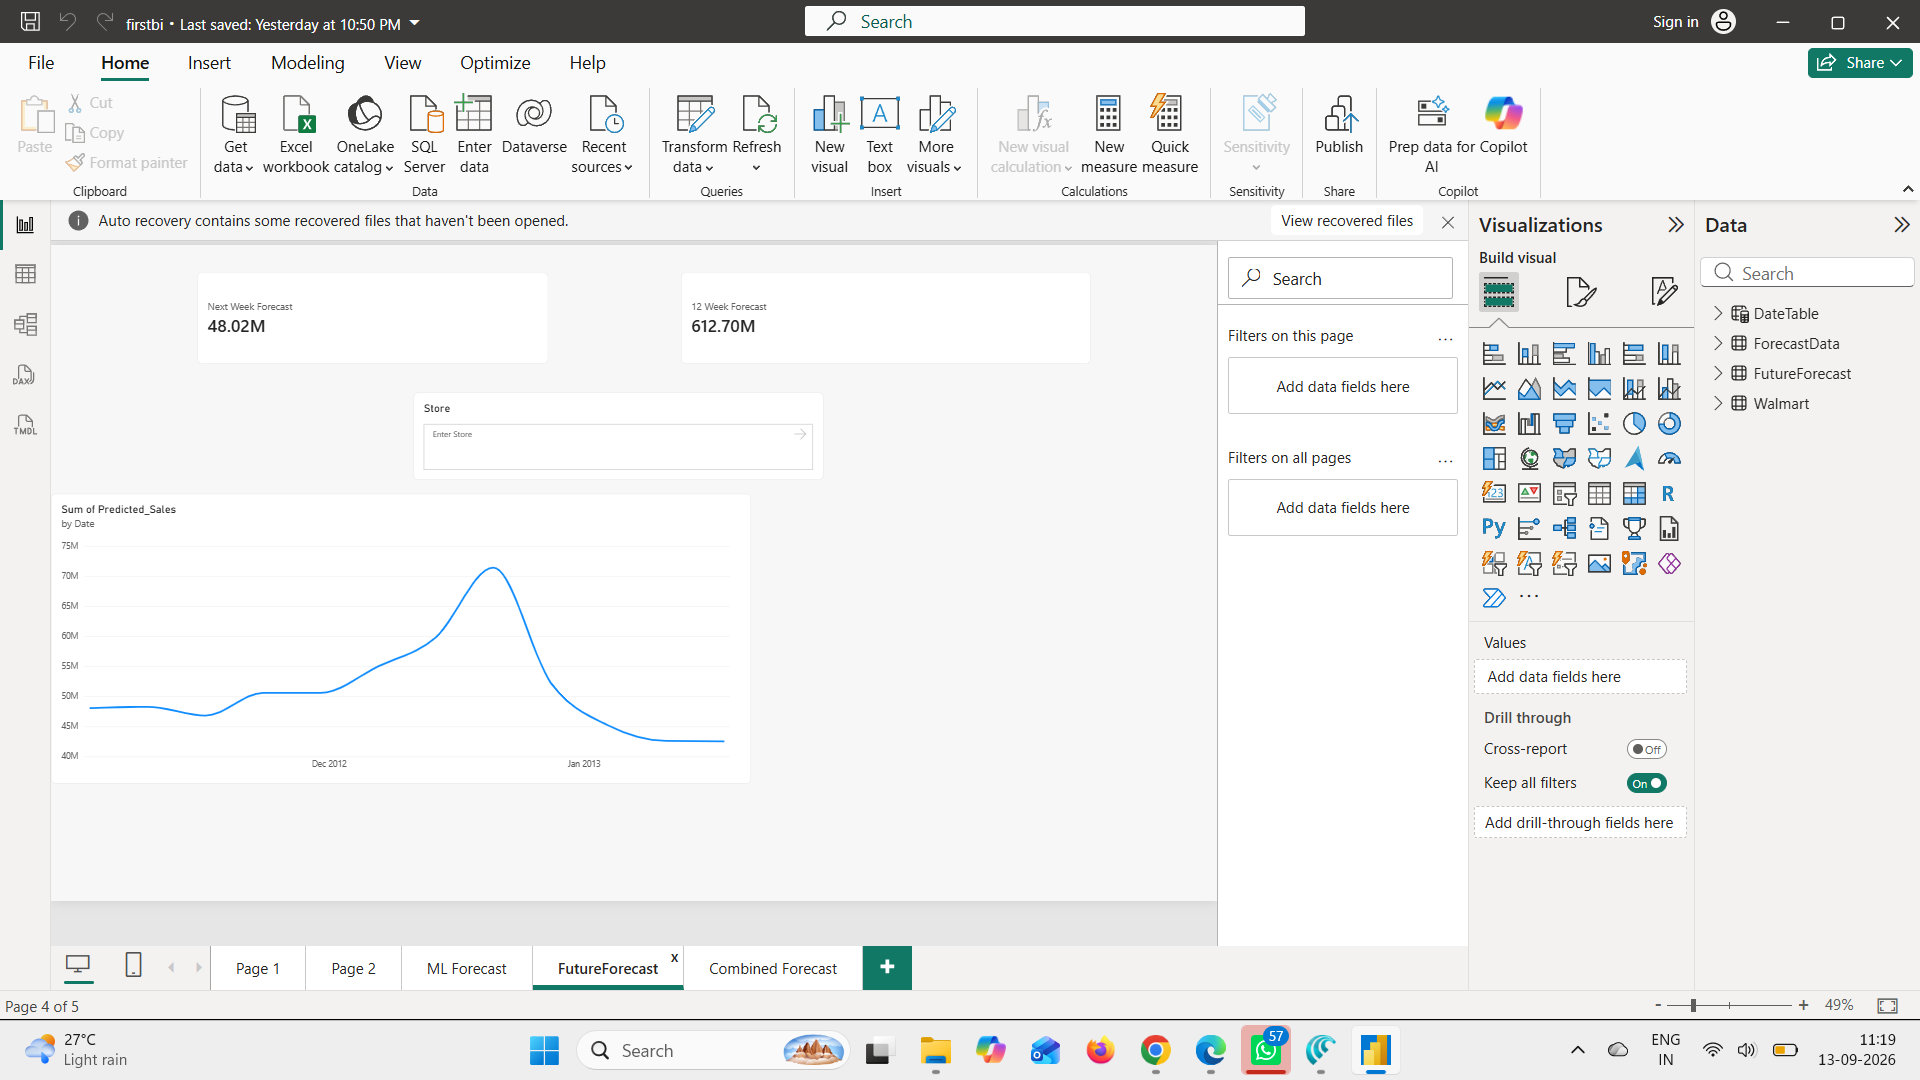

The page's visual inventory and layout, read from the dashboard file:
{"tool":"powerbi","page":{"name":"FutureForecast","canvas":[1920,1080],"ordinal":3},"visuals":[{"type":"lineChart","fields":{"Category":["FutureForecast.Date"],"Y":["Sum(FutureForecast.Predicted_Sales)"]},"box":[333.4,477.5,1152.7,477.5],"z":0},{"type":"textSlicer","fields":{"Values":["FutureForecast.Store"]},"box":[512.5,298.5,675.1,144.1],"z":1000},{"type":"cardVisual","fields":{"Data":["ForecastData.Next Week Forecast"]},"box":[18.5,92.6,578.4,150.3],"z":2000},{"type":"cardVisual","fields":{"Data":["ForecastData.12 Week Forecast"]},"box":[850.1,76.2,675.1,150.3],"z":3000},{"type":"textbox","title":"12-Week Future Sales Forecast","box":[1251.5,0,597,150],"z":4000}]}

Visuals, with their boxes on the page's 1920x1080 design canvas (x1, y1, x2, y2). These are canvas units, not pixel positions in the 1920x1080 screenshot, which may show the page scaled, cropped or inside an application window:
lineChart - FutureForecast.Date x Sum(FutureForecast.Predicted_Sales): box(333, 478, 1486, 955)
textSlicer - FutureForecast.Store: box(512, 298, 1188, 443)
cardVisual - ForecastData.Next Week Forecast: box(18, 93, 597, 243)
cardVisual - ForecastData.12 Week Forecast: box(850, 76, 1525, 226)
"12-Week Future Sales Forecast" textbox: box(1252, 0, 1848, 150)
